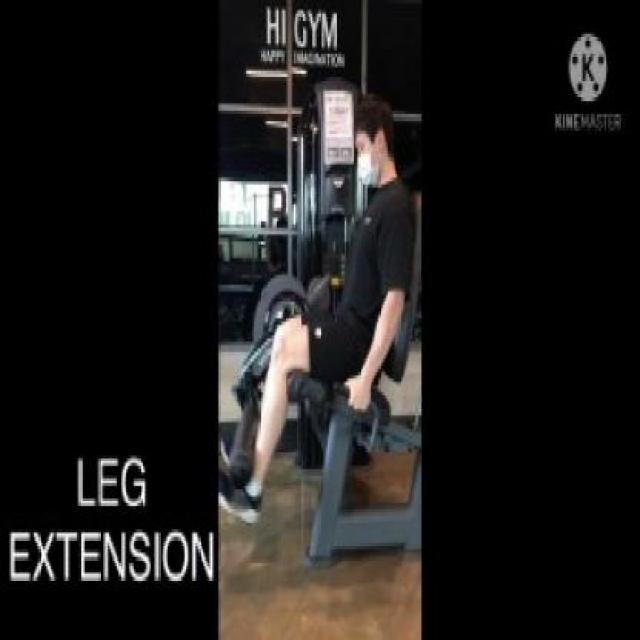leg extension: (218, 83, 418, 568)
